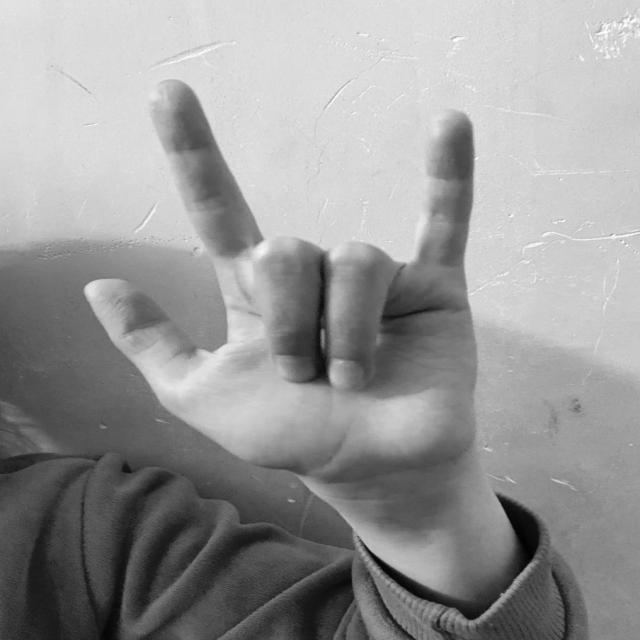i love you: (75, 68, 502, 491)
